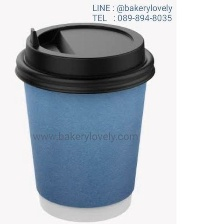paper_cup: (8, 16, 160, 224)
